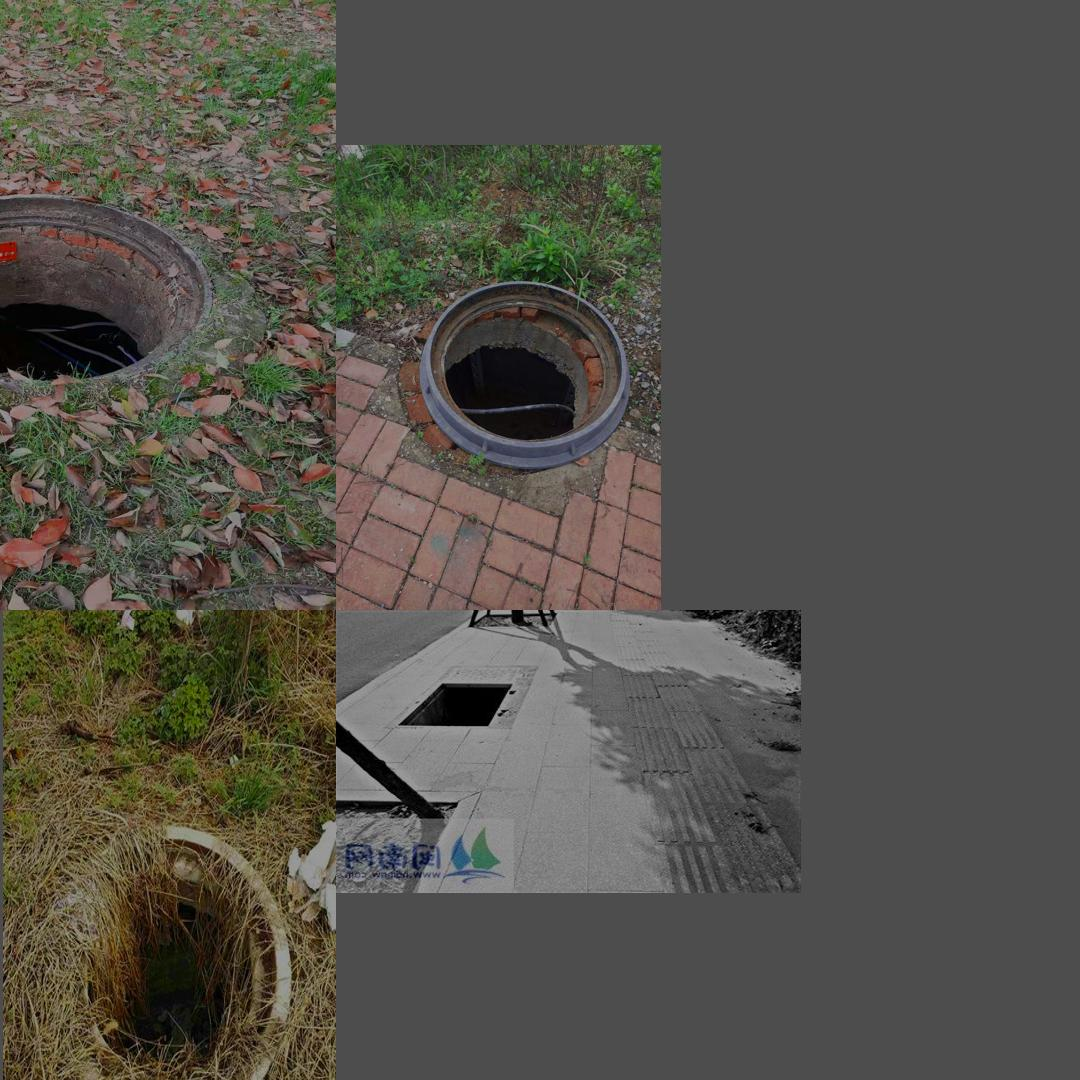lose: (39, 834, 291, 1080), (0, 193, 212, 387), (419, 281, 631, 471), (389, 665, 531, 736)
